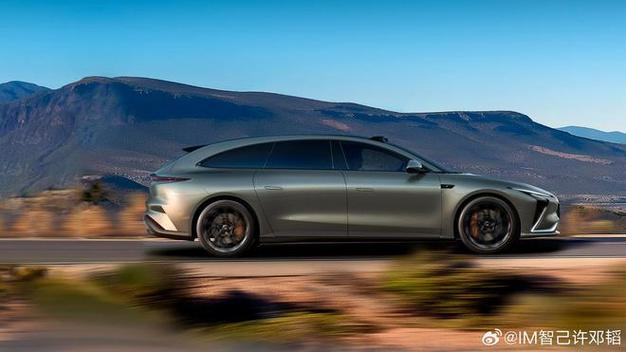汽车: (134, 125, 578, 272)
